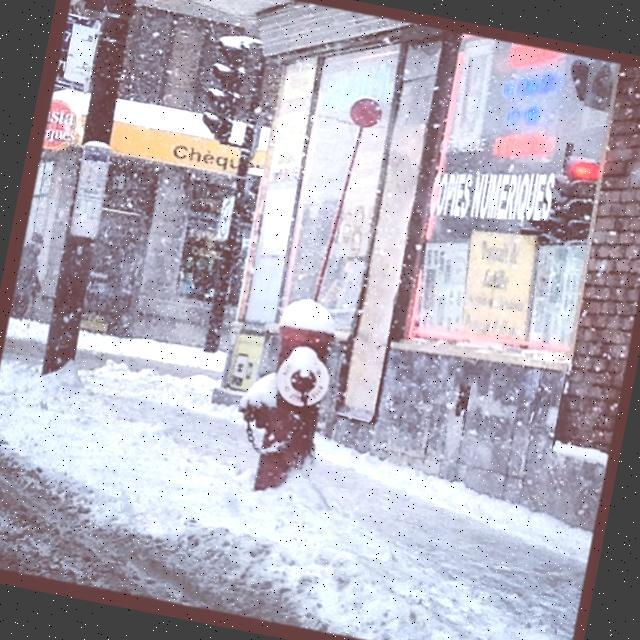fire_hydrant: (224, 290, 344, 500)
